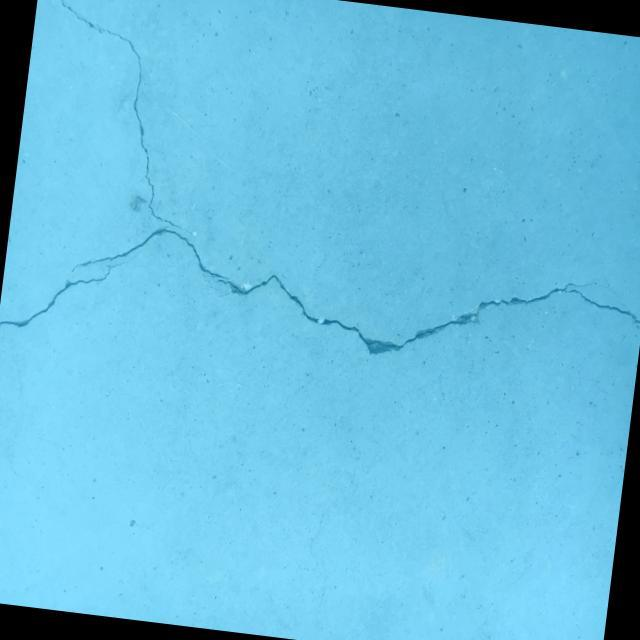crack: (9, 0, 640, 387), (0, 246, 127, 345), (299, 506, 335, 626)
